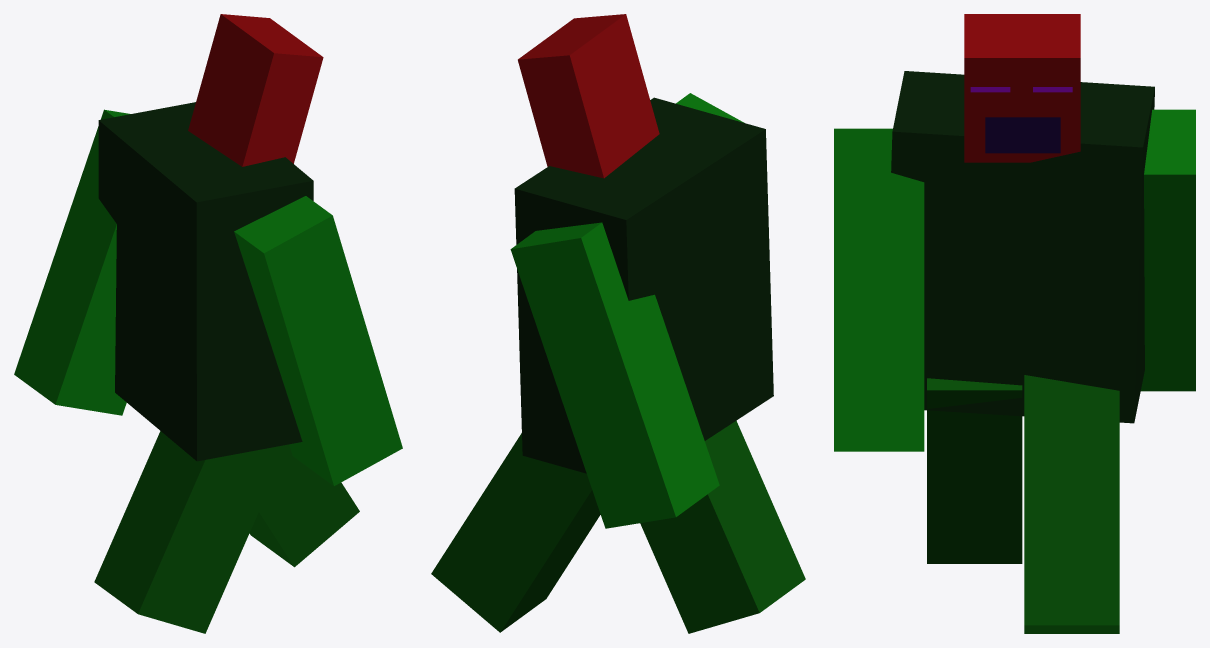
The model's file is walk_000008.obj.
3 views of the same model, side by side, from view 1: azimuth 30°, elevation 25°; view 2: azimuth 150°, elevation 25°; view 3: azimuth 270°, elevation 25° (orthographic). The views are drawn at different scales.
Parts seen in each view (by area): view 1: Cube, leg.002_Cube.006, leg.001_Cube.007, leg.003_Cube.002, Cube.001_Cube.003, leg_Cube.001; view 2: Cube, leg.003_Cube.002, leg.001_Cube.007, leg_Cube.001, Cube.001_Cube.003, leg.002_Cube.006; view 3: Cube, leg.002_Cube.006, leg_Cube.001, leg.001_Cube.007, leg.003_Cube.002, Cube.001_Cube.003, Plane.002.
Part boxes in pixels (left/top/right/bottom): Cube: left=98, top=102, right=313, bottom=461; leg.002_Cube.006: left=234, top=196, right=402, bottom=485; leg.001_Cube.007: left=94, top=431, right=287, bottom=633; leg.003_Cube.002: left=14, top=109, right=130, bottom=415; Cube.001_Cube.003: left=188, top=14, right=323, bottom=166; leg_Cube.001: left=249, top=444, right=359, bottom=567; Cube: left=514, top=97, right=773, bottom=473; leg.003_Cube.002: left=510, top=222, right=719, bottom=528; leg.001_Cube.007: left=640, top=420, right=805, bottom=633; leg_Cube.001: left=431, top=433, right=600, bottom=632; Cube.001_Cube.003: left=518, top=14, right=659, bottom=178; leg.002_Cube.006: left=676, top=93, right=744, bottom=122; Cube: left=891, top=71, right=1154, bottom=423; leg.002_Cube.006: left=834, top=128, right=924, bottom=451; leg_Cube.001: left=1024, top=375, right=1119, bottom=633; leg.001_Cube.007: left=927, top=378, right=1022, bottom=563; leg.003_Cube.002: left=1141, top=109, right=1195, bottom=391; Cube.001_Cube.003: left=964, top=14, right=1080, bottom=162; Plane.002: left=985, top=117, right=1060, bottom=153.
Bounding box in the file's own units: 3.22 × 6.3 × 3.47.
